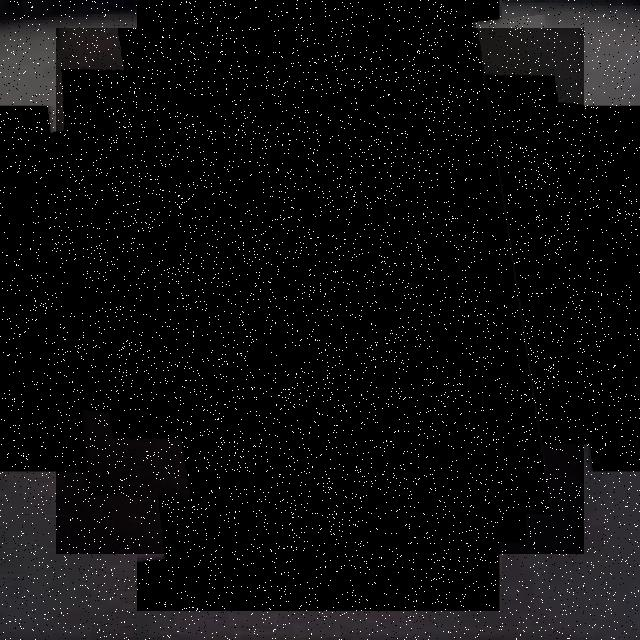dua puluh ribu rupiah: (56, 28, 584, 554)
